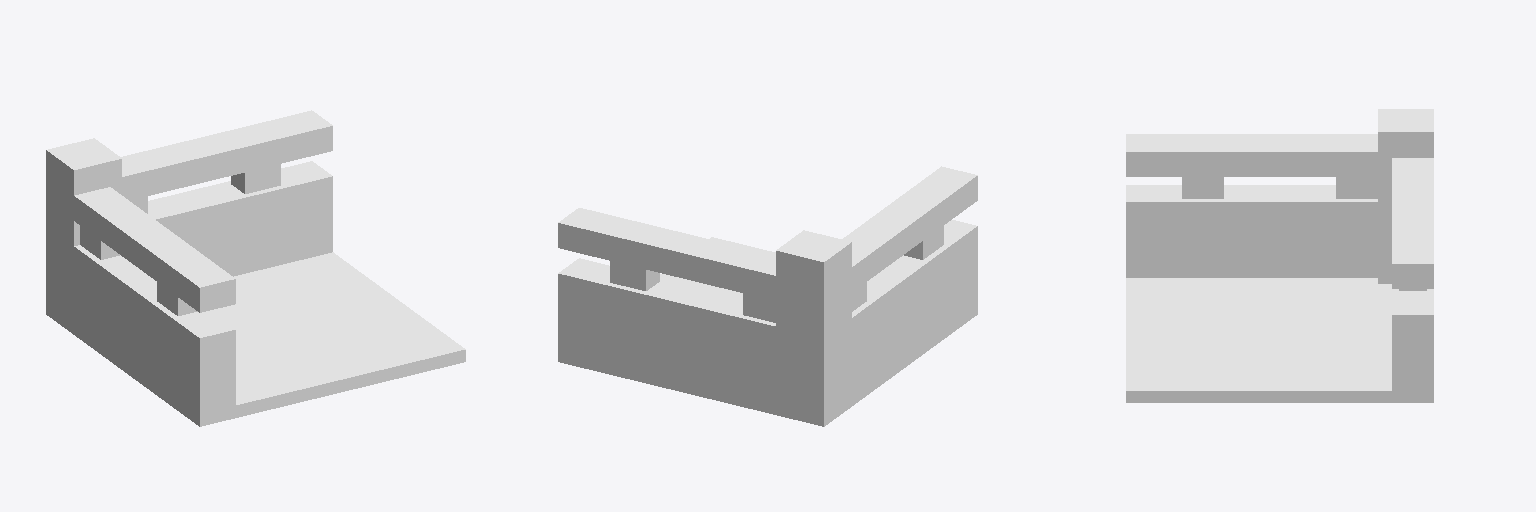
The model's file is mesh_hanger_railing_inner_corner.obj.
The picture shows the model from 3 angles: view 1: azimuth 30°, elevation 25°; view 2: azimuth 150°, elevation 25°; view 3: azimuth 270°, elevation 25°; orthographic projection.
Parts seen in each view (by area): view 1: object 1; view 2: object 1; view 3: object 1.
Part boxes in pixels (left/top/right/bottom): object 1: left=46, top=110, right=465, bottom=426; object 1: left=558, top=166, right=977, bottom=426; object 1: left=1126, top=109, right=1433, bottom=402.
Bounding box in the file's own units: 4.4 × 2.6 × 4.4.